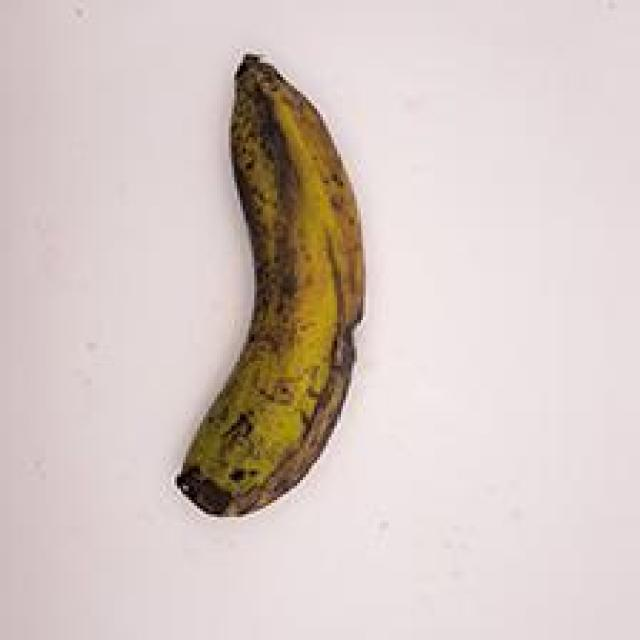Overripe: (137, 31, 406, 552)
